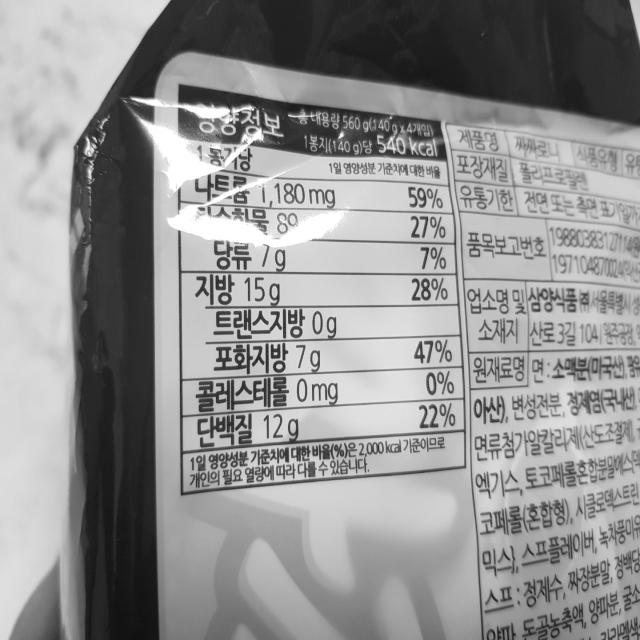Nutrition Label: (179, 81, 470, 499)
